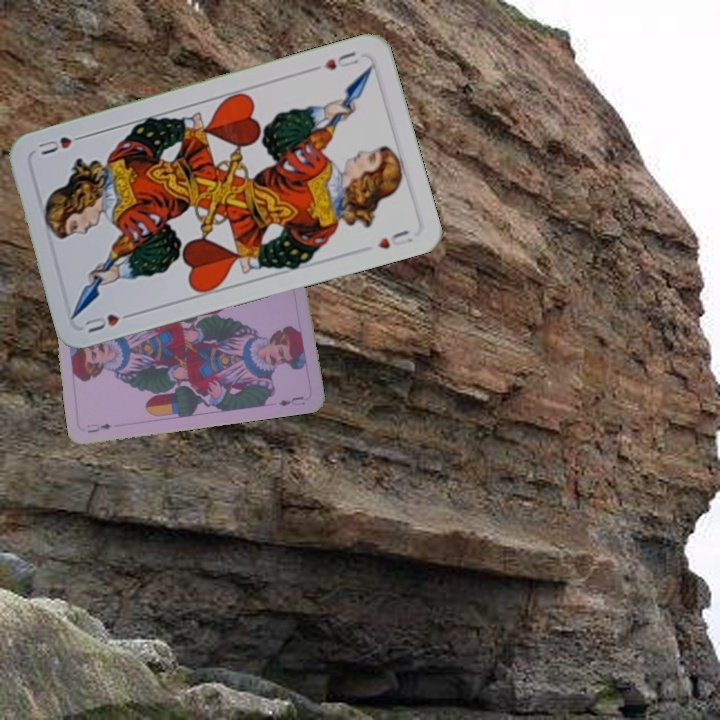EU: (83, 419, 114, 436)
HU: (81, 308, 138, 336), (320, 47, 361, 73)
